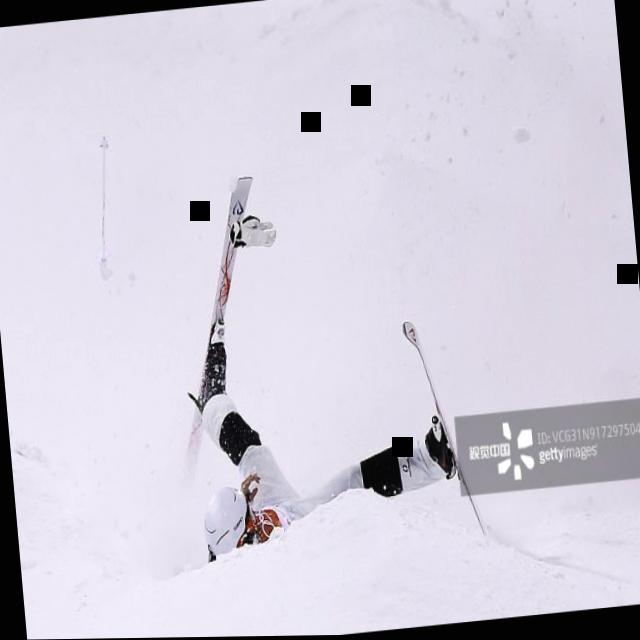Fall-Detected: (128, 155, 494, 606)
